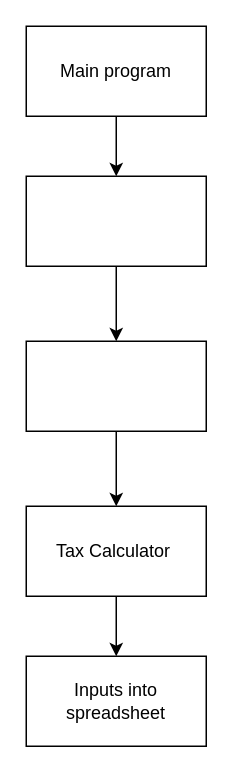
This 233x773 diagram has some shape labels left out. The shapes that lost their labels are listed below. From the top down, each one's centre as x and y in pixels, then its label:
At (115,220): "List of employees accessed by ID".
At (115,385): "Payroll calculator".
